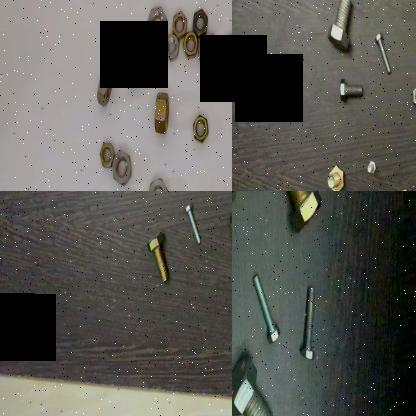Bolts: (232, 352, 275, 416), (249, 269, 280, 355), (264, 191, 323, 235), (296, 276, 318, 372), (325, 0, 355, 55), (146, 223, 172, 286), (180, 200, 202, 245), (373, 28, 392, 78), (338, 76, 366, 106), (321, 158, 345, 191), (406, 75, 416, 113), (364, 154, 375, 180), (392, 181, 415, 191)
NUTS: (142, 3, 170, 43), (195, 30, 221, 70), (108, 146, 132, 188), (152, 86, 170, 140), (93, 66, 113, 112), (188, 6, 209, 40), (168, 7, 188, 41), (190, 110, 209, 144), (180, 29, 200, 61), (161, 32, 181, 62), (124, 55, 141, 89), (221, 29, 232, 76), (98, 139, 114, 169), (144, 172, 168, 191)
